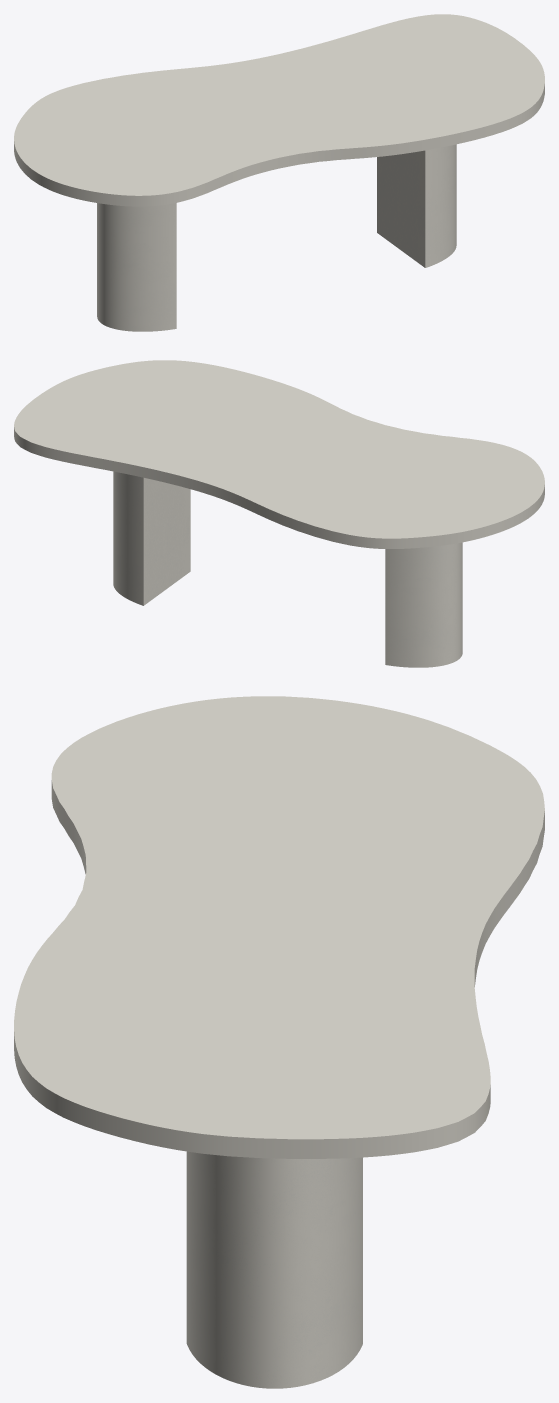
Rendered from pale_wave_standard_hillside.glb.
3 renders of one model, top to bottom at view 1: azimuth 30°, elevation 25°; view 2: azimuth 150°, elevation 25°; view 3: azimuth 270°, elevation 25°, orthographic. The views are drawn at different scales.
Visible parts, largest first — view 1: standard_wave, hillside; view 2: standard_wave, hillside; view 3: standard_wave, hillside.
Boxes of the visible parts, <box> form: standard_wave: <box>14,14,544,206</box>; hillside: <box>97,144,456,331</box>; standard_wave: <box>14,360,544,548</box>; hillside: <box>113,471,462,667</box>; standard_wave: <box>14,696,544,1158</box>; hillside: <box>186,1151,362,1388</box>.
Bounding box in the file's own units: 7.5 × 2.5 × 3.8.
1 material, 1 textured.
